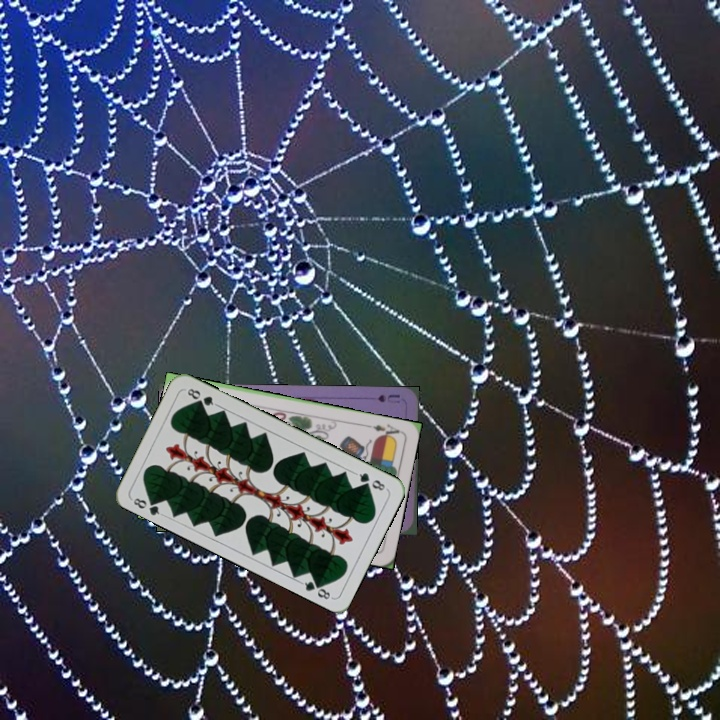EA: (363, 420, 404, 441)
G8: (128, 493, 166, 519), (351, 469, 388, 493)
SU: (374, 391, 402, 406)
